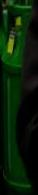cylinder: (1, 1, 38, 195)
